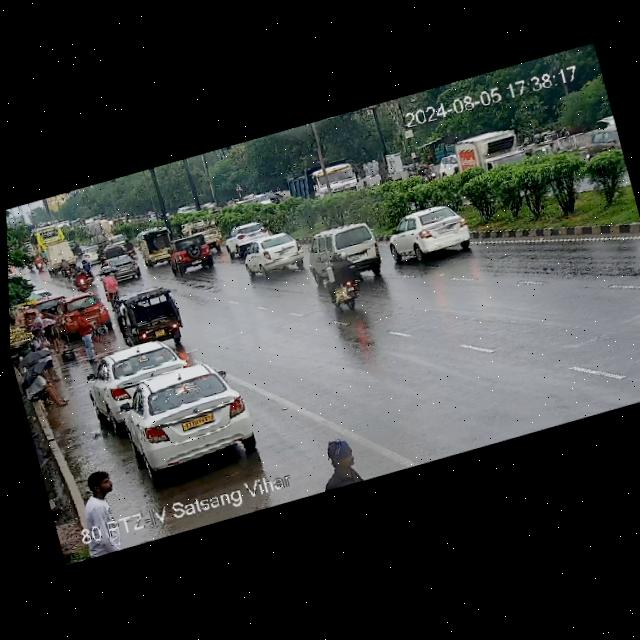bus: (27, 223, 68, 254)
car: (102, 350, 263, 485), (81, 335, 188, 418), (303, 217, 391, 293), (384, 199, 476, 270), (113, 282, 190, 350), (241, 227, 309, 280), (55, 288, 112, 338), (219, 216, 276, 256), (169, 230, 218, 275), (137, 225, 175, 266), (98, 251, 143, 285), (521, 139, 556, 163), (100, 243, 126, 261), (81, 244, 98, 264), (105, 232, 122, 247)
motorcycle: (318, 255, 369, 315), (69, 260, 94, 291), (99, 269, 120, 301), (58, 256, 74, 279), (417, 162, 435, 182), (121, 235, 136, 259), (33, 253, 45, 271), (95, 243, 106, 260)
person: (310, 430, 370, 493), (73, 467, 128, 531), (19, 362, 70, 413), (35, 304, 68, 356), (75, 305, 98, 359)
truck: (451, 119, 522, 179), (283, 157, 361, 211), (33, 240, 79, 278), (178, 214, 218, 242), (82, 217, 110, 246)
